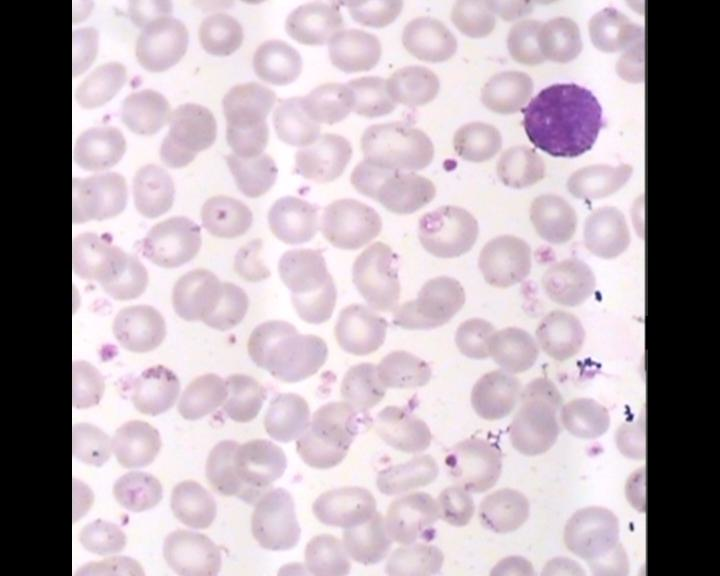baso: (519, 78, 606, 161)
